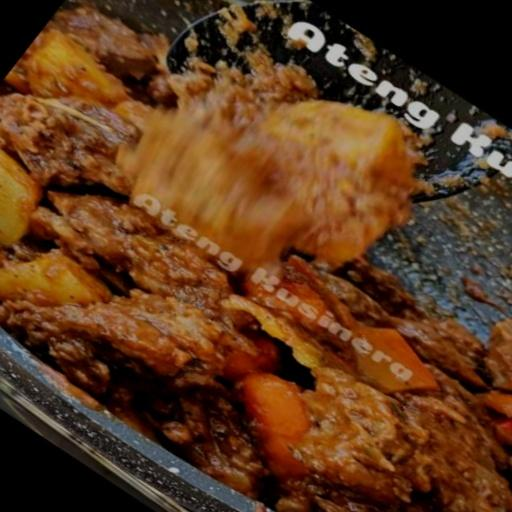pork caldereta: (0, 4, 511, 511)
